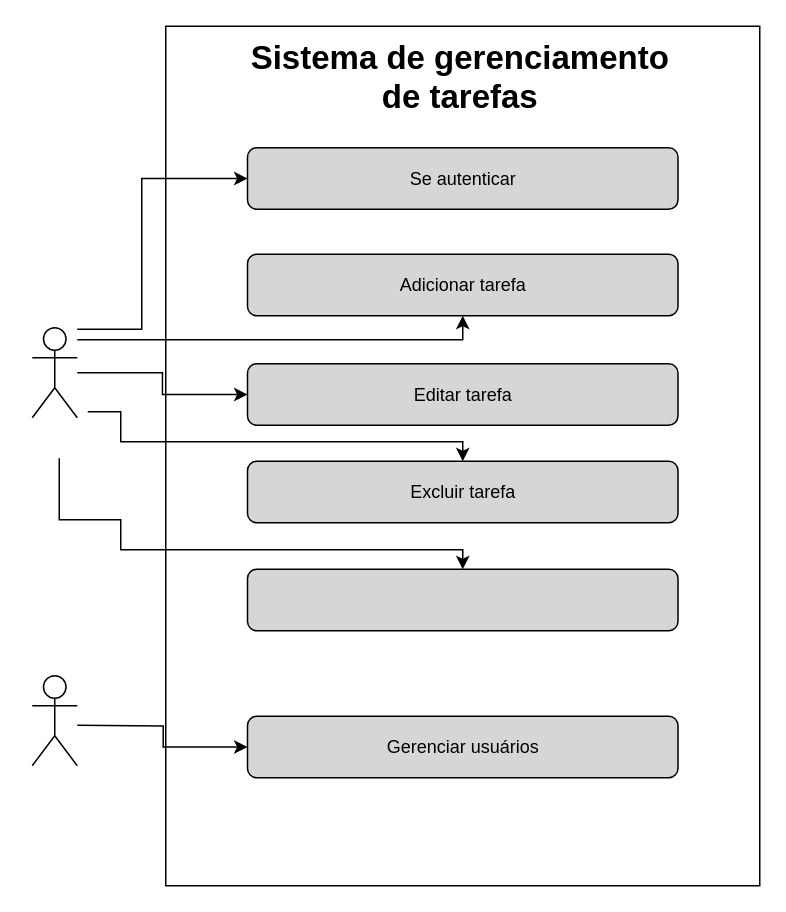
Image size: 786x912. Some labels were removed from this diagram. The shapes that lost their labels are listed below. From the top down, each one's box as (x1, y1, x2, y2) in pixels, then its label:
(31, 326, 77, 418): usuario
(246, 568, 678, 631): Visualizar tarefas
(31, 674, 77, 766): admin
